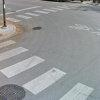Crosswalk: (3, 36, 87, 100)
